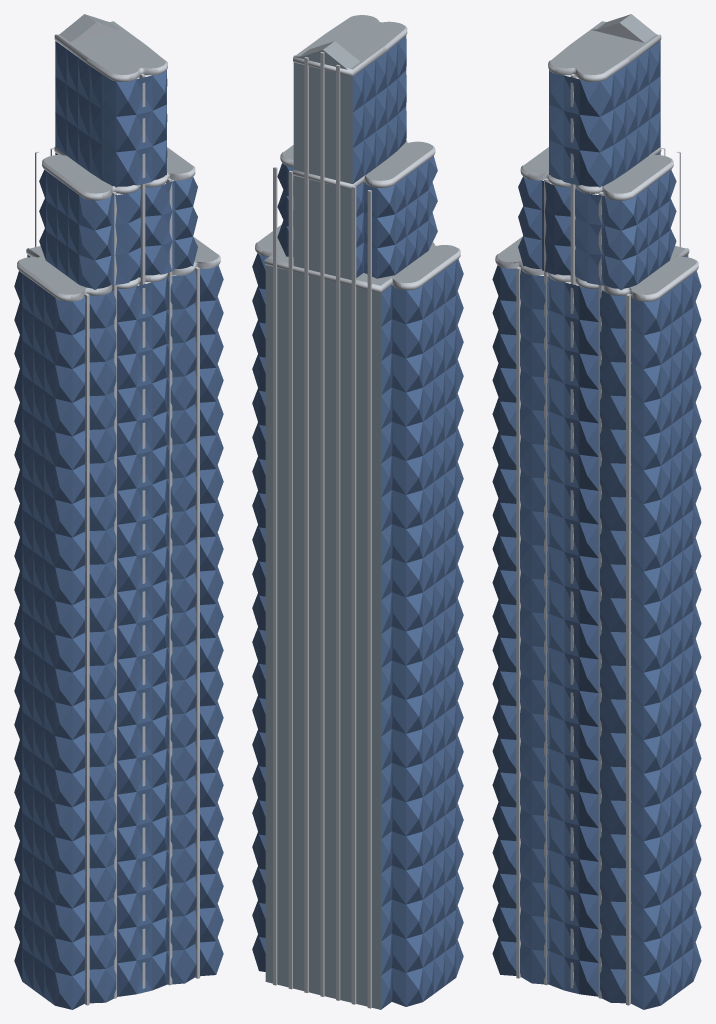
File: shenzhen-china-merchants-bank-hq.glb
The picture shows the model from 3 angles, left to right: view 1: azimuth 30°, elevation 25°; view 2: azimuth 150°, elevation 25°; view 3: azimuth 330°, elevation 25°; orthographic projection.
Parts seen in each view (by area): view 1: China Merchants Bank Global Headquarters; view 2: China Merchants Bank Global Headquarters; view 3: China Merchants Bank Global Headquarters.
Part boxes in pixels (x1,y1,x2,y2): China Merchants Bank Global Headquarters: [14, 14, 223, 1009]; China Merchants Bank Global Headquarters: [252, 15, 463, 1009]; China Merchants Bank Global Headquarters: [492, 14, 701, 1009].
Bounding box in the file's own units: 73.78 × 393 × 48.7.
